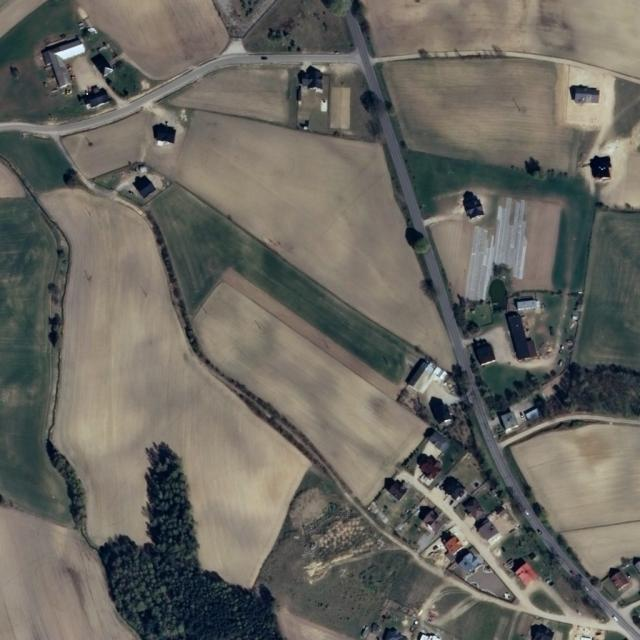agricultural_land: (85, 164, 459, 503), (0, 120, 80, 521), (0, 0, 140, 139), (512, 424, 640, 575), (147, 37, 324, 140), (49, 80, 191, 174), (321, 60, 371, 136)
building: (359, 419, 571, 622), (361, 420, 570, 615), (498, 610, 572, 640)
metalled_road: (403, 245, 575, 581), (344, 9, 430, 241)
